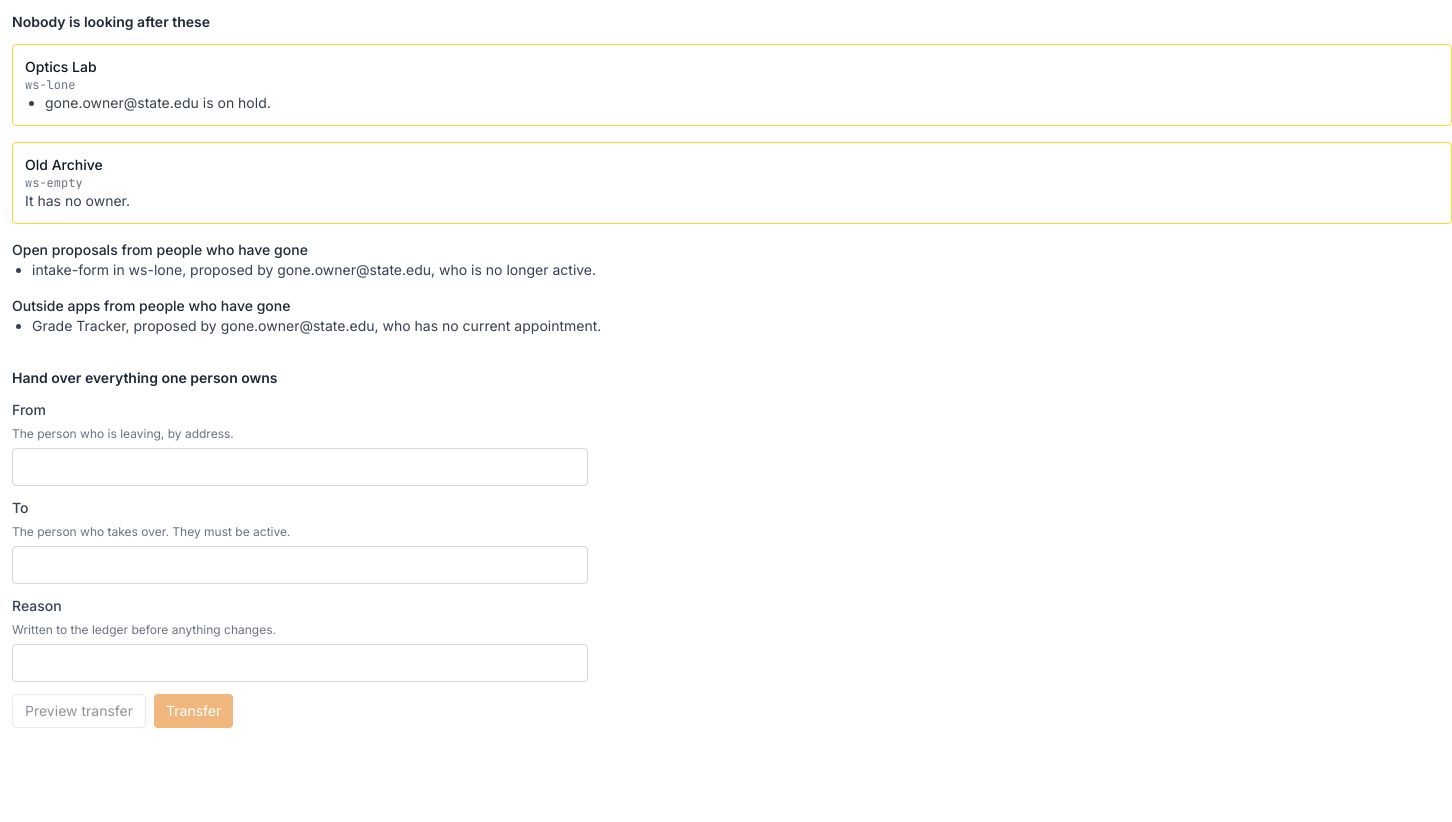
Test case: Ownership › keeps Transfer off until a preview with no blocker has been read for these same two people
expect the element with test id "ownership-orphans" is shown: met, box [12,44,1451,336]
expect the button "Transfer" is disabled: met, box [154,694,233,728]
Type "gone.owner@state.edu" into the field labelled "From". click: (300, 467)
box: [12,448,588,486]
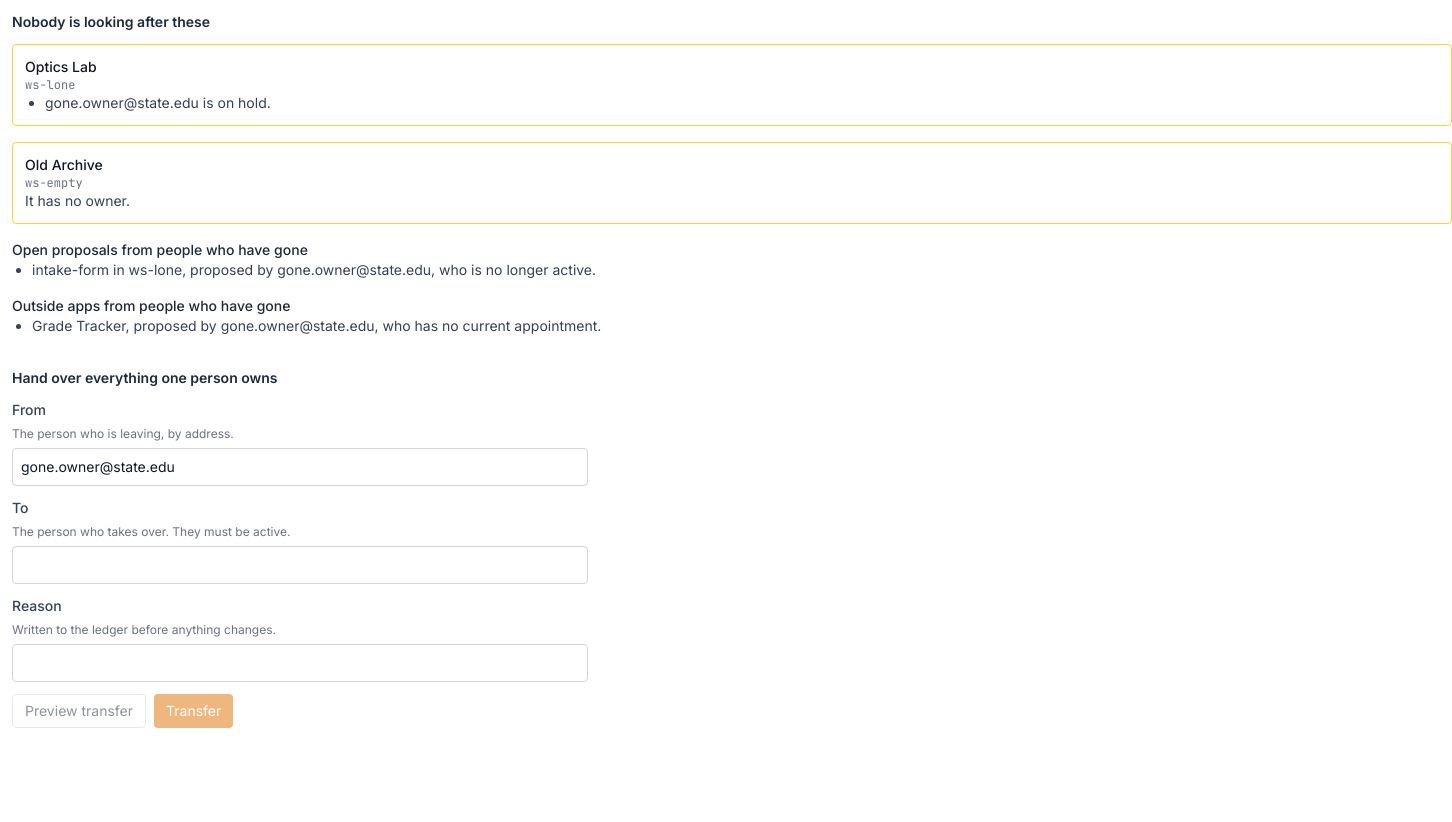
Type "new.owner@state.edu" into the field labelled "To". click: (300, 565)
box: [12,546,588,584]
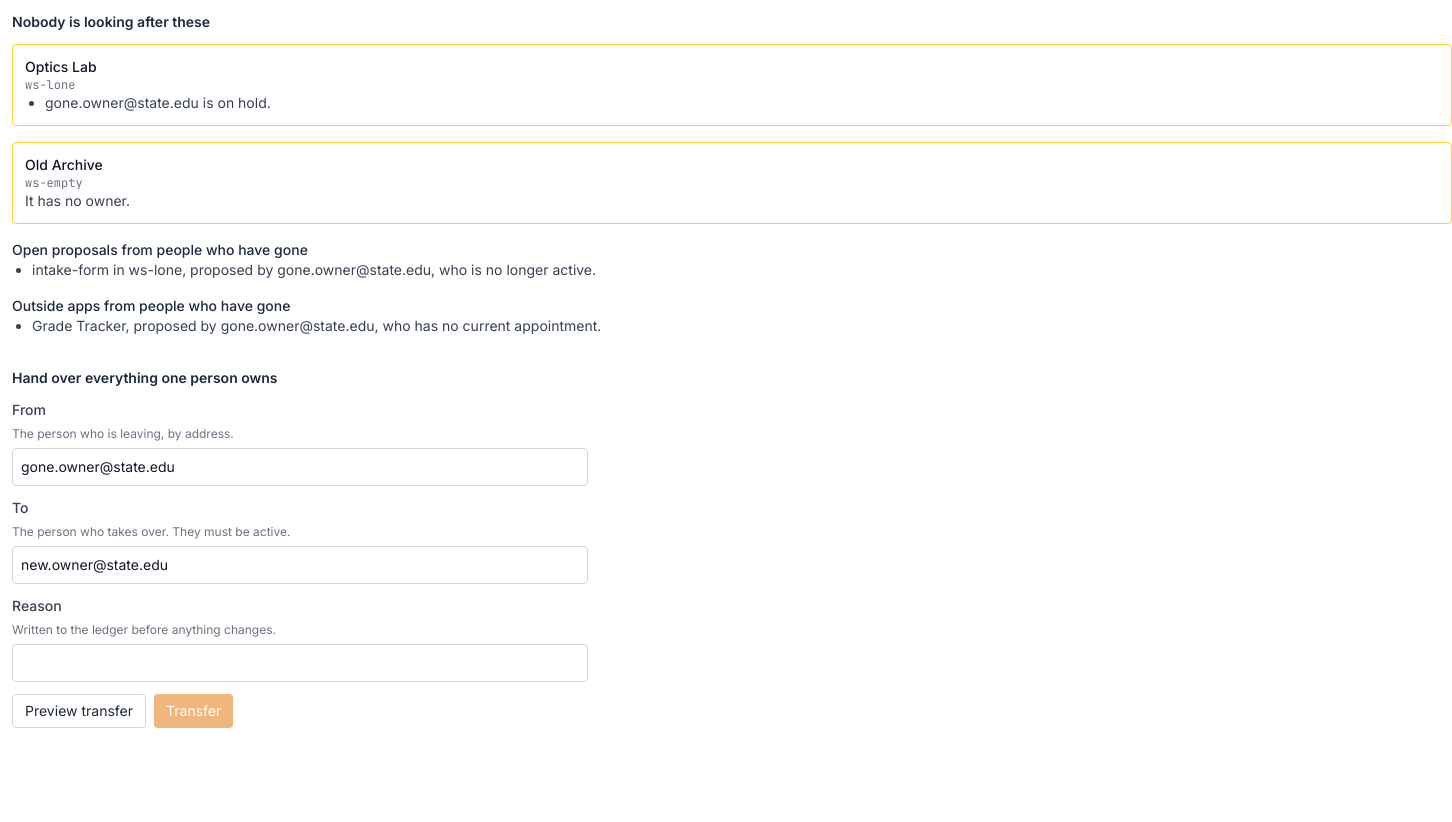
expect the button "Transfer" is disabled: met, box [154,694,233,728]
Click the button "Preview transfer". click: (79, 711)
box: [12,694,146,728]
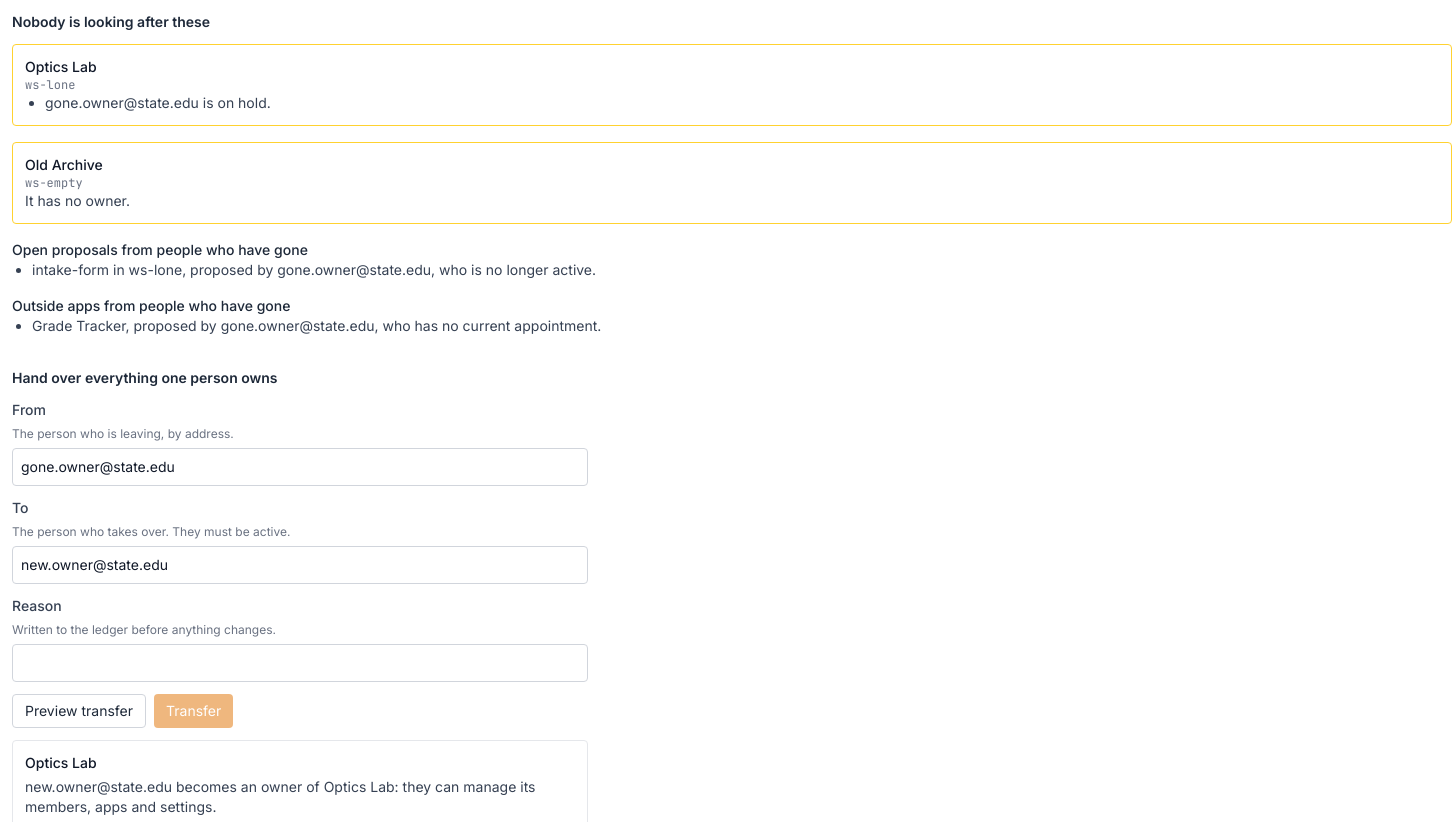
Type "Moved to another school" into the field labelled "Reason". click: (300, 663)
box: [12,644,588,682]
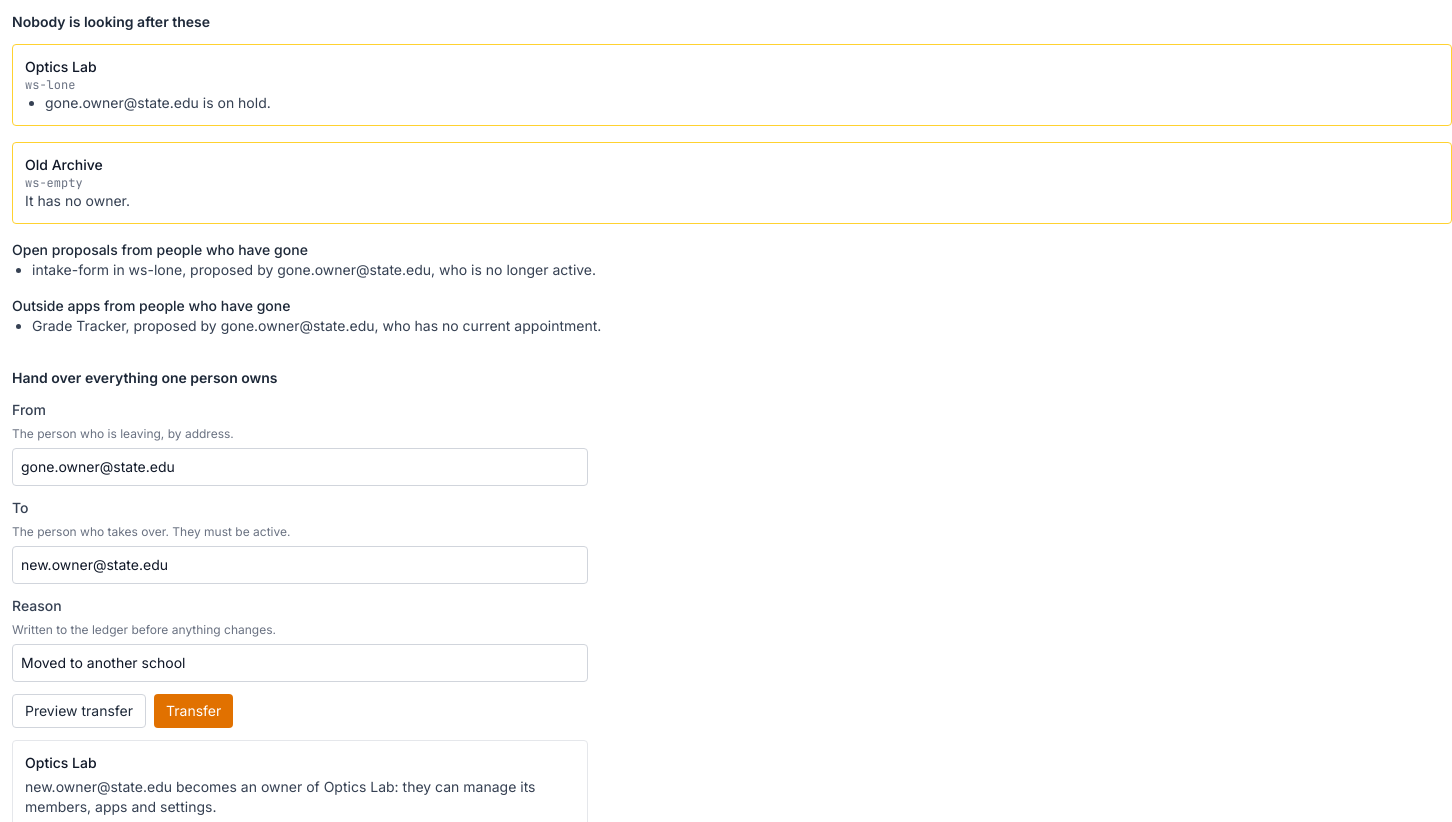
expect the button "Transfer" is enabled: met, box [154,694,233,728]
Replace the text in the field labelled "To" with "someone.else@state.edu". click: (300, 565)
box: [12,546,588,584]
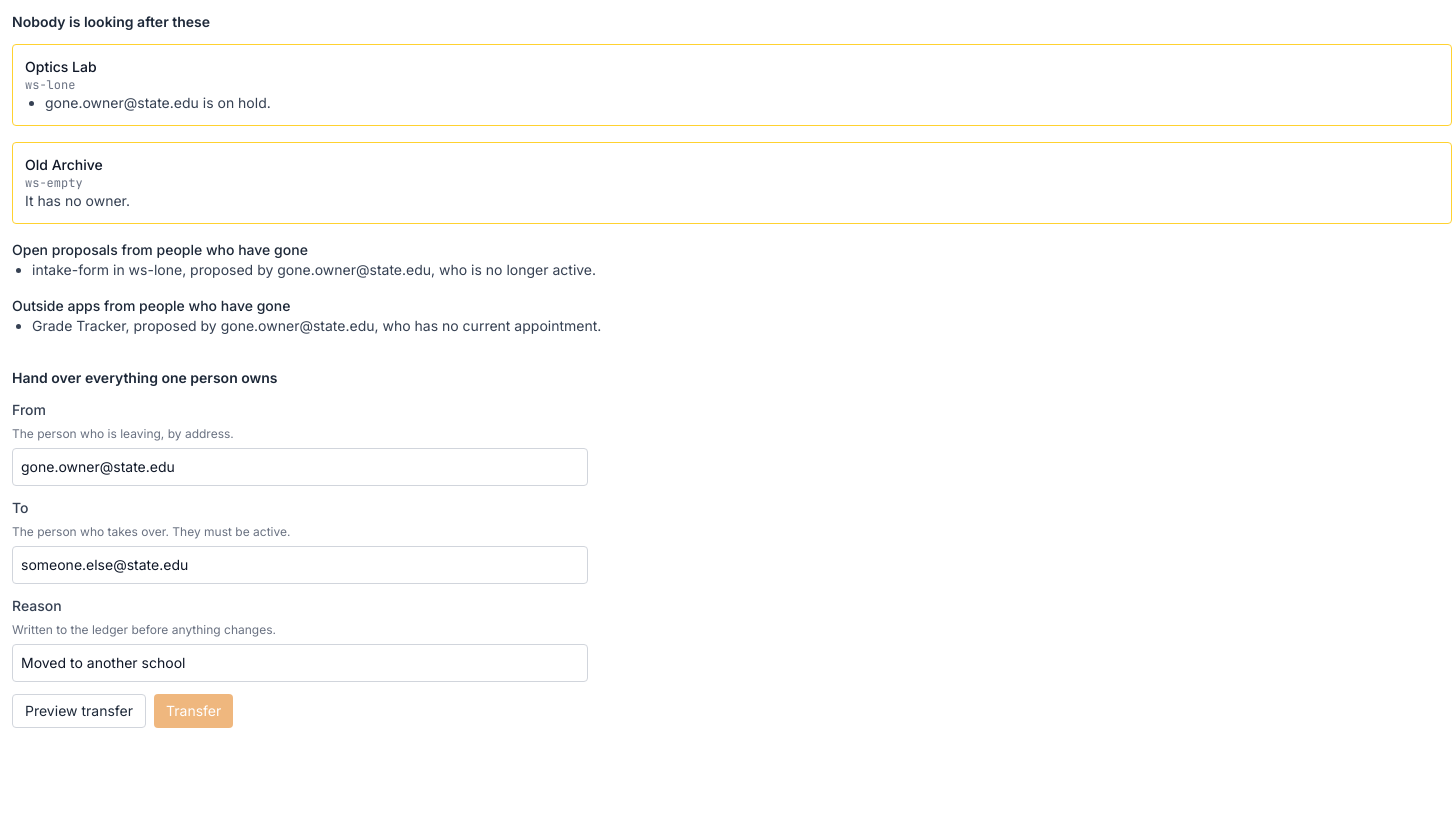
expect the button "Transfer" is disabled: met, box [154,694,233,728]
